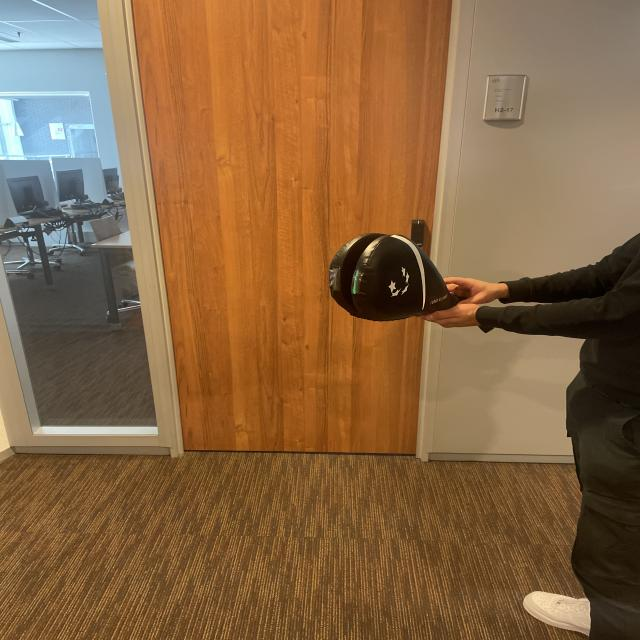paddle: (327, 230, 449, 319)
trigger: (350, 269, 363, 298)
